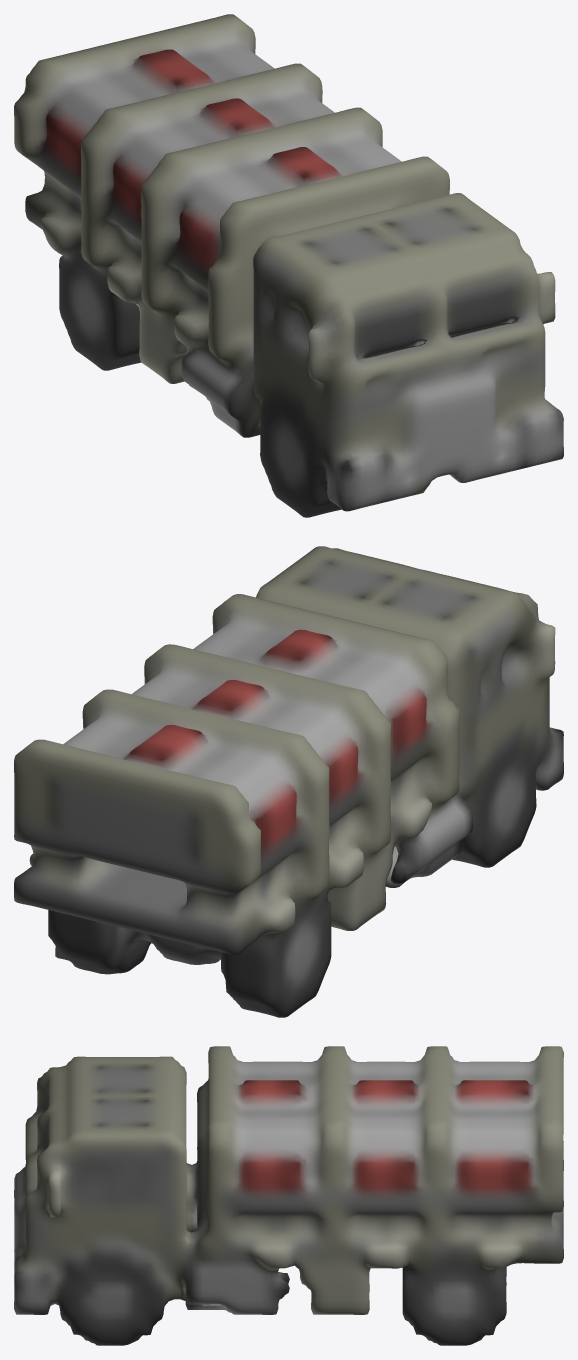
Rendered from dtruck.glb.
3 renders of one model, top to bottom at view 1: azimuth 30°, elevation 25°; view 2: azimuth 150°, elevation 25°; view 3: azimuth 270°, elevation 25°, orthographic. The views are drawn at different scales.
Visible parts, largest first — view 1: dtruck; view 2: dtruck; view 3: dtruck.
Part boxes in pixels (x1=…): dtruck: x1=14, y1=14, x2=563, y2=517; dtruck: x1=14, y1=546, x2=563, y2=1017; dtruck: x1=14, y1=1046, x2=563, y2=1345.
Bounding box in the file's own units: 1.76 × 1.74 × 4.
